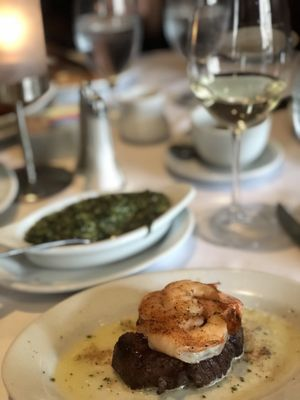salad: (0, 237, 91, 257)
